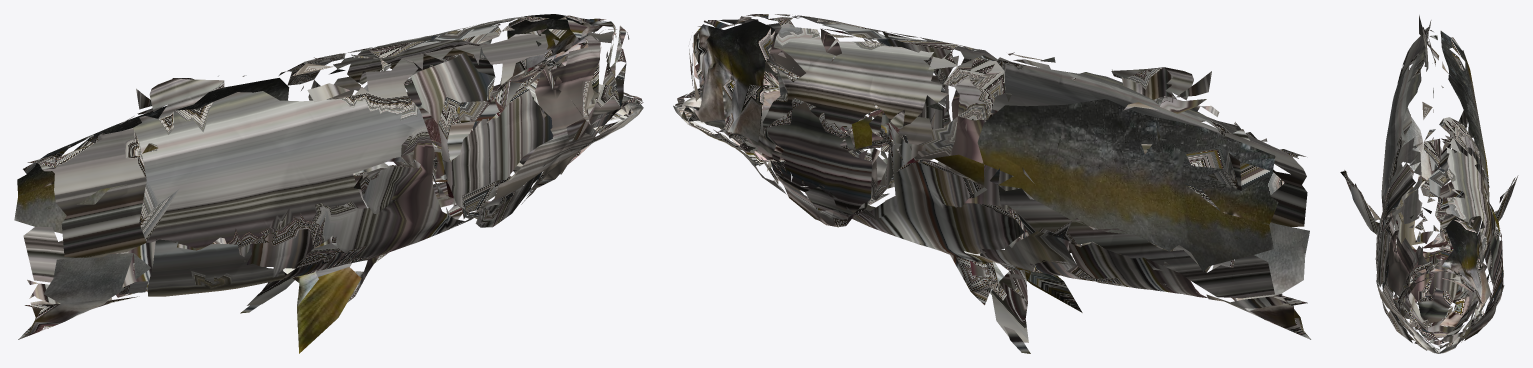
The model's file is amberjack_a.glb.
The picture shows the model from 3 angles, left to right: view 1: azimuth 30°, elevation 25°; view 2: azimuth 150°, elevation 25°; view 3: azimuth 270°, elevation 25°; orthographic projection. The views are drawn at different scales.
Visible parts, largest first — view 1: amberjack_a; view 2: amberjack_a; view 3: amberjack_a.
Boxes of the visible parts, x1=… form: amberjack_a: x1=14, y1=14, x2=643, y2=353; amberjack_a: x1=673, y1=14, x2=1310, y2=353; amberjack_a: x1=1340, y1=15, x2=1518, y2=353.
Bounding box in the file's own units: 0.8185 × 0.3595 × 0.2419.
Materials: 1 (1 with a texture image).
